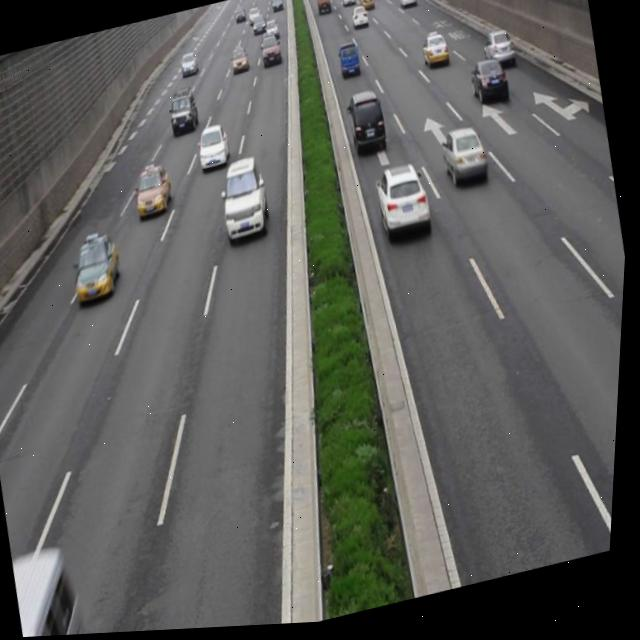car: (372, 163, 437, 250), (216, 157, 276, 246), (67, 230, 131, 310), (439, 128, 491, 195), (131, 162, 179, 224), (468, 60, 511, 113), (478, 32, 517, 79), (196, 127, 233, 173), (167, 91, 202, 137)
truck: (15, 546, 101, 638), (343, 92, 391, 160)
